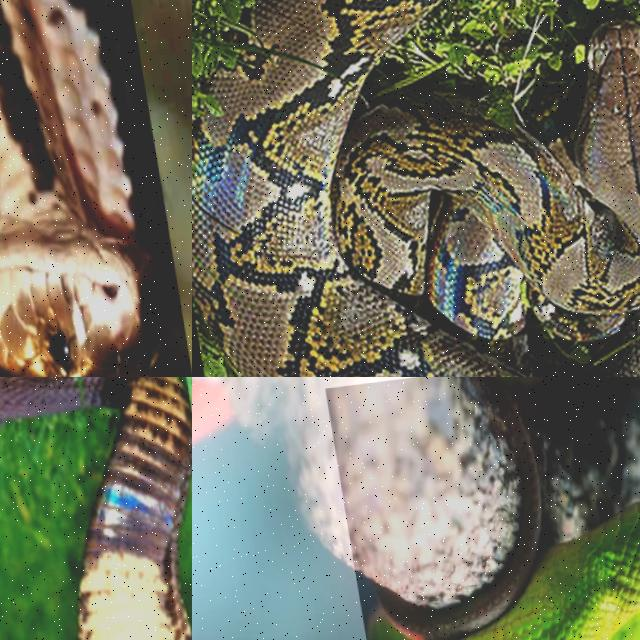Malayopython reticulatus: (192, 0, 639, 376)
Naja siamensis: (0, 0, 166, 376), (0, 377, 191, 639)
Trimeresurus macrops: (369, 377, 639, 639)
snake: (192, 0, 639, 376), (369, 377, 639, 639), (0, 0, 166, 376), (0, 377, 191, 639)
